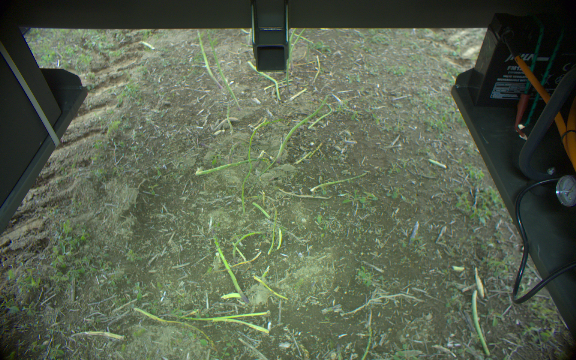aspa: (243, 115, 283, 214), (279, 91, 329, 157), (209, 232, 248, 304), (207, 33, 242, 113), (193, 31, 222, 92), (467, 288, 492, 357), (197, 155, 263, 174), (249, 60, 278, 97), (287, 28, 298, 82), (290, 27, 307, 59)
